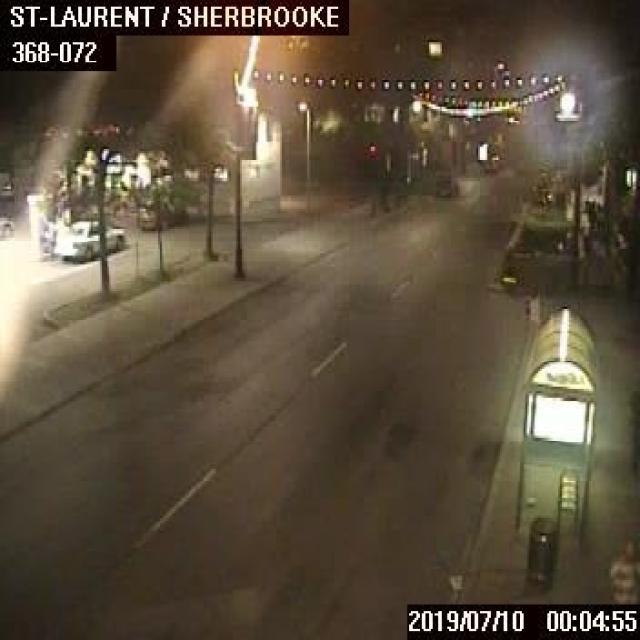pedestrian: (606, 529, 638, 598)
vehicle: (54, 217, 122, 259), (138, 203, 188, 229), (431, 173, 455, 195), (0, 214, 13, 237)
